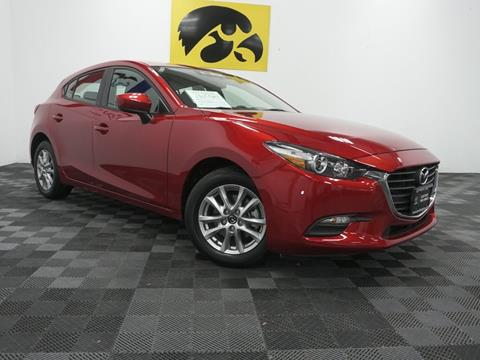Mazda3 Hatchback: (29, 58, 441, 269)
